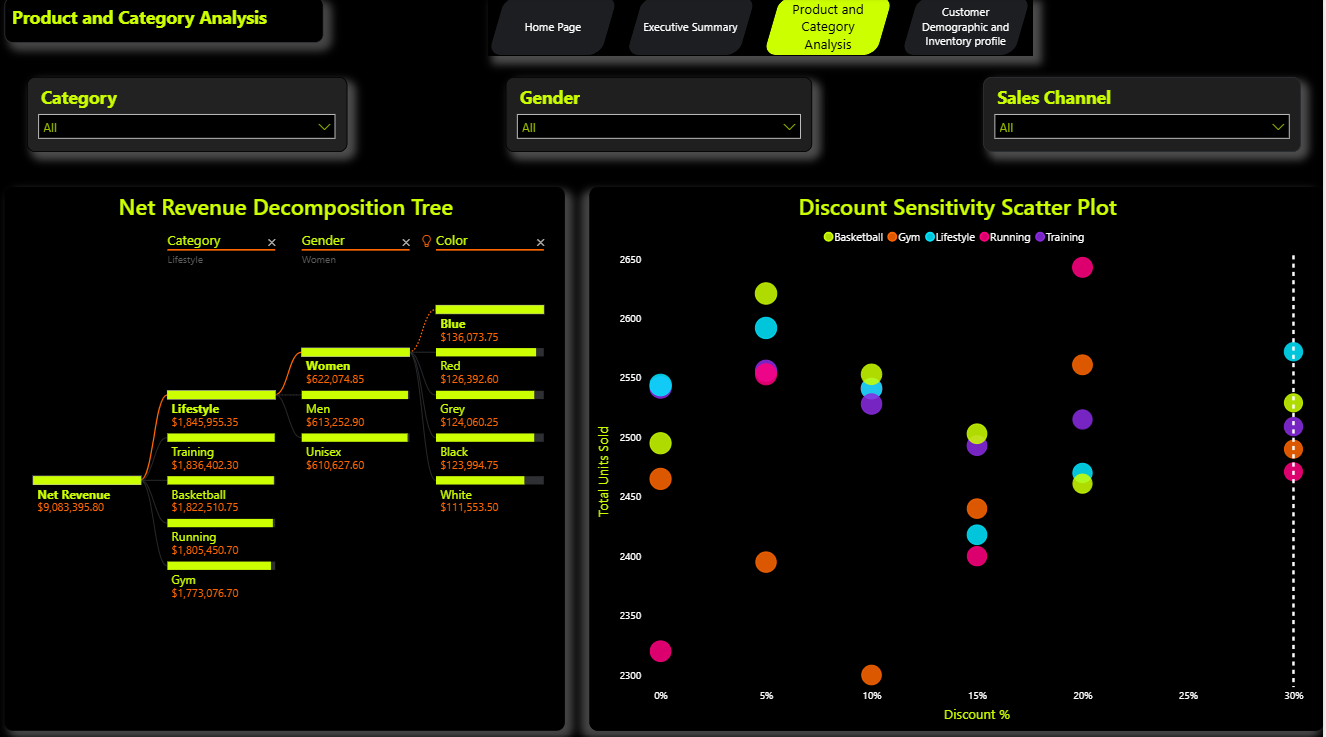

Layout of this report page (visuals, bound fields, positions):
{"tool":"powerbi","page":{"name":"Product and Category Analysis","canvas":[1600,900],"ordinal":2},"visuals":[{"type":"textbox","box":[9.7,0,384.9,55.5],"z":0},{"type":"slicer","fields":{"Values":["dim_products.category"]},"box":[36.2,96.5,386.1,90.5],"z":1000},{"type":"slicer","fields":{"Values":["dim_order_context.sales_channel"]},"box":[1189.9,96.5,383,90.5],"z":2000},{"type":"slicer","fields":{"Values":["dim_products.gender"]},"box":[613.8,96.5,369.5,90.5],"z":3000},{"type":"decompositionTreeVisual","title":"Net Revenue Decomposition Tree","fields":{"Analyze":["_Measures.Net Revenue"],"ExplainBy":["dim_products.category","dim_products.gender","dim_products.color"]},"box":[9,229.2,675.6,656],"z":4000},{"type":"scatterChart","title":"Discount Sensitivity Scatter Plot","fields":{"X":["_Measures.Discount %"],"Y":["_Measures.Total Units Sold"],"Size":["_Measures.Net Revenue"],"Series":["dim_products.category"],"Category":["fact_sales.discount_percent"]},"box":[714.8,229.2,885.2,656],"z":5000},{"type":"pageNavigator","box":[592.7,0,657.5,70.9],"z":6000}]}

Visuals, with their boxes in screenshot pixels (x1, y1, x2, y2), scaled from the page's 1600x900 canvas onto the 1326x737 screenshot:
textbox: pyautogui.locateOnScreen(8, 0, 327, 45)
slicer - dim_products.category: pyautogui.locateOnScreen(30, 79, 350, 153)
slicer - dim_order_context.sales_channel: pyautogui.locateOnScreen(986, 79, 1304, 153)
slicer - dim_products.gender: pyautogui.locateOnScreen(509, 79, 815, 153)
"Net Revenue Decomposition Tree" decompositionTreeVisual: pyautogui.locateOnScreen(7, 188, 567, 725)
"Discount Sensitivity Scatter Plot" scatterChart: pyautogui.locateOnScreen(592, 188, 1325, 725)
pageNavigator: pyautogui.locateOnScreen(491, 0, 1036, 58)
